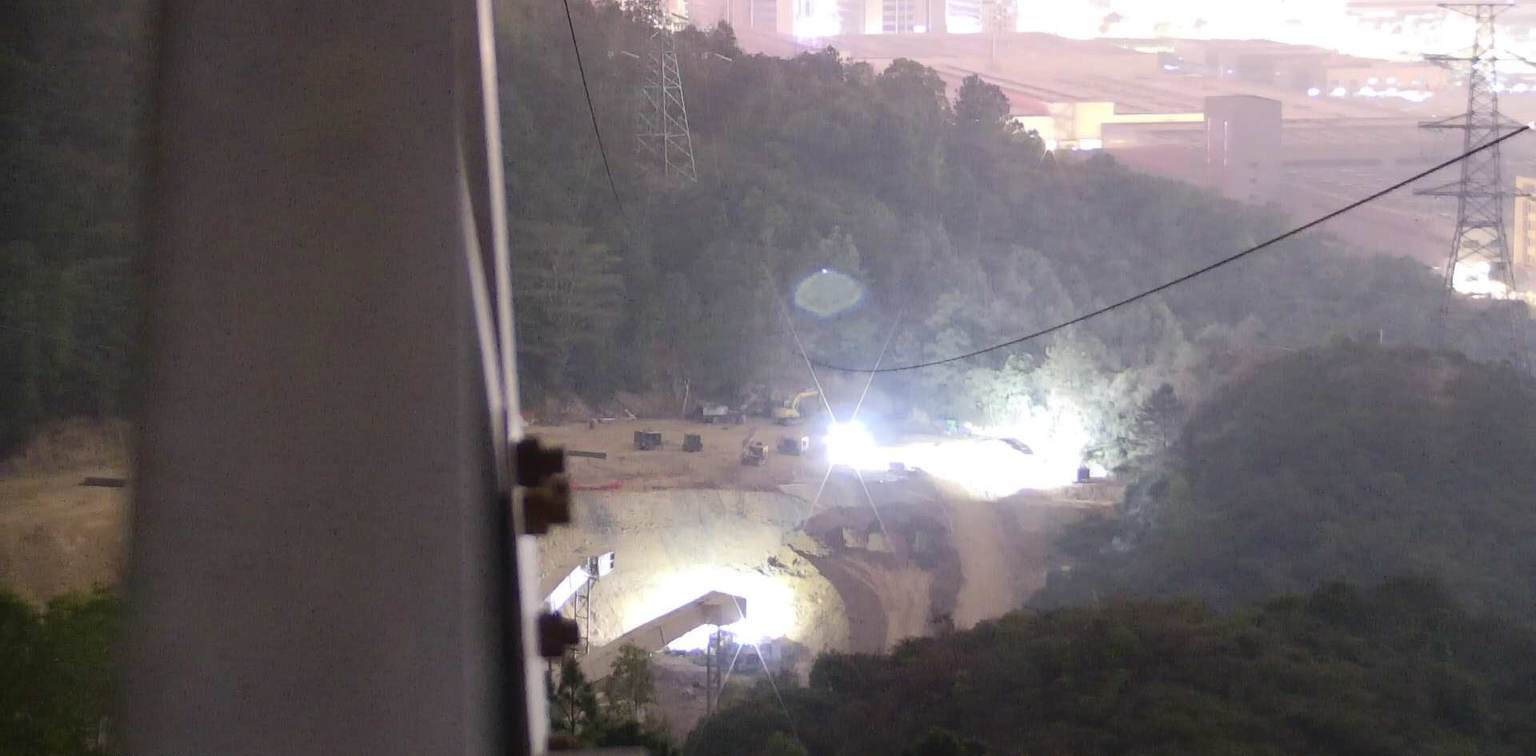过爆灯光: (1014, 0, 1535, 106), (878, 398, 1106, 498), (621, 565, 795, 652), (821, 416, 878, 470), (1452, 258, 1516, 301), (790, 0, 845, 43), (947, 14, 986, 34), (865, 14, 882, 35), (1078, 138, 1102, 150), (1046, 138, 1057, 151)
